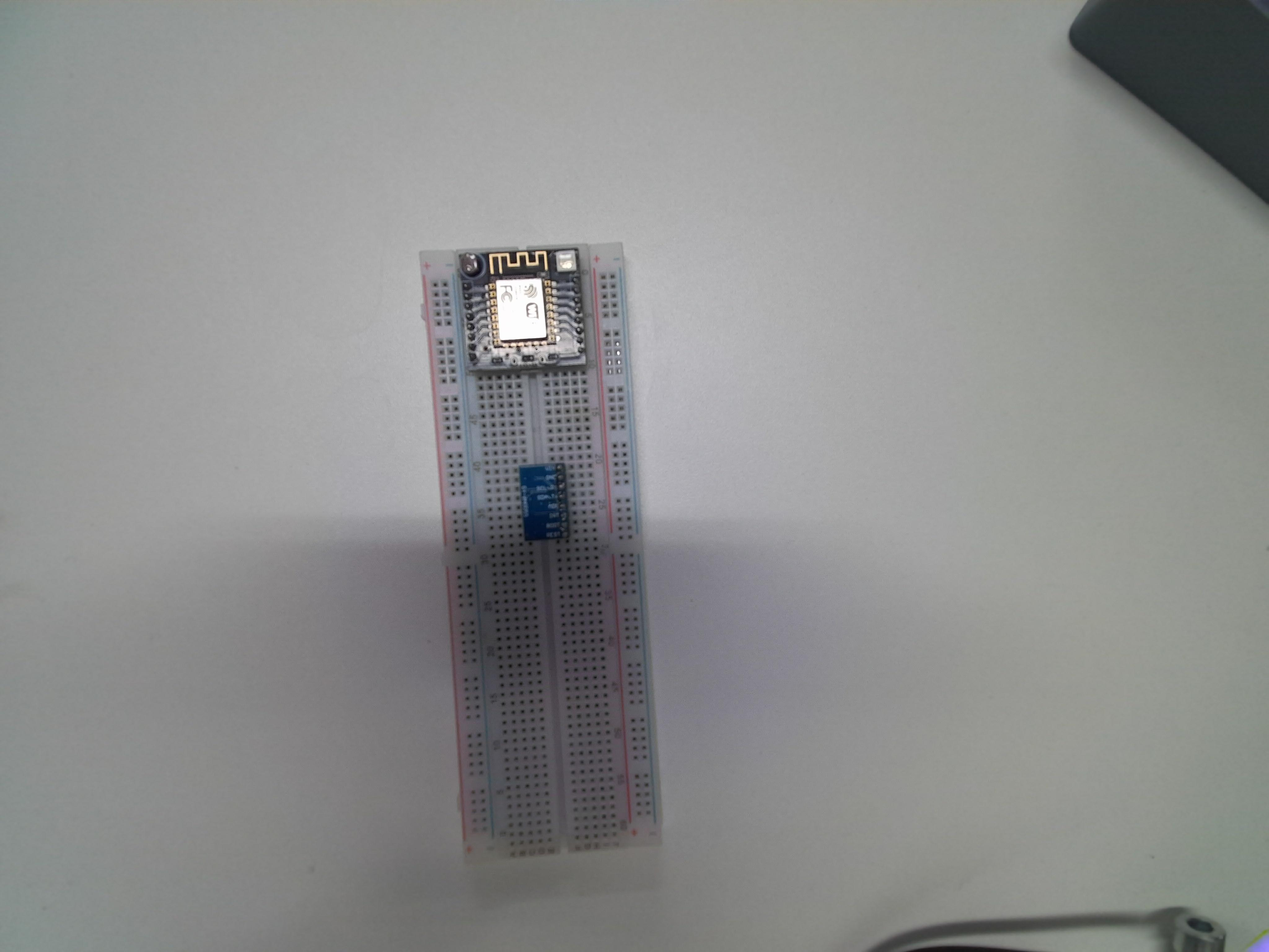base: (416, 240, 663, 866)
blue-board: (516, 459, 576, 544)
esp: (455, 240, 589, 376)
